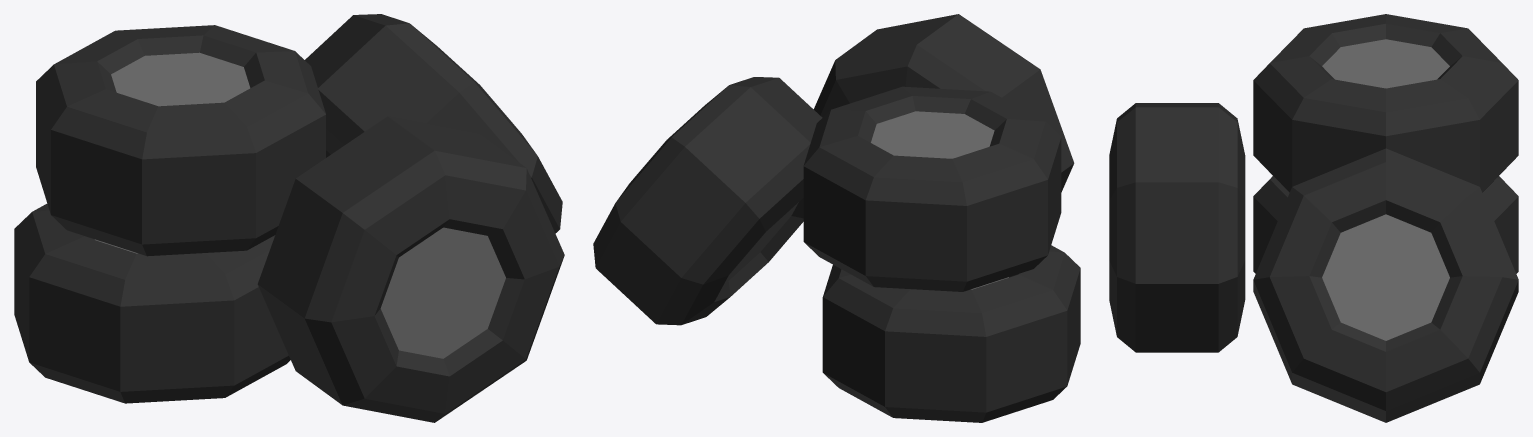
File: Tires.fbx
3 renders of one model, left to right at view 1: azimuth 30°, elevation 25°; view 2: azimuth 150°, elevation 25°; view 3: azimuth 270°, elevation 25°, orthographic. The views are drawn at different scales.
Visible parts, largest first — view 1: Tire01, Tire02, Tire04, Tire03; view 2: Tire02, Tire03, Tire04, Tire01; view 3: Tire03, Tire02, Tire01, Tire04.
Boxes of the visible parts, bbox=[...] form: Tire01: bbox=[257, 116, 564, 422]; Tire02: bbox=[36, 25, 325, 256]; Tire04: bbox=[14, 204, 290, 403]; Tire03: bbox=[305, 14, 562, 233]; Tire02: bbox=[803, 86, 1061, 291]; Tire03: bbox=[593, 77, 822, 325]; Tire04: bbox=[822, 245, 1080, 422]; Tire01: bbox=[813, 14, 1074, 192]; Tire03: bbox=[1253, 148, 1518, 422]; Tire02: bbox=[1253, 14, 1518, 192]; Tire01: bbox=[1109, 103, 1245, 352]; Tire04: bbox=[1253, 176, 1518, 273].
Size of the model in its own units: 1.04 by 0.5551 by 0.828.
1 material, 1 textured.
